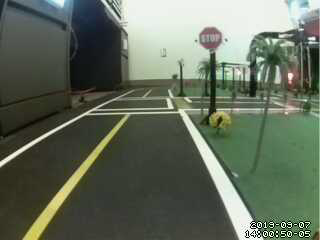Stop_Sign: (197, 24, 227, 51)
